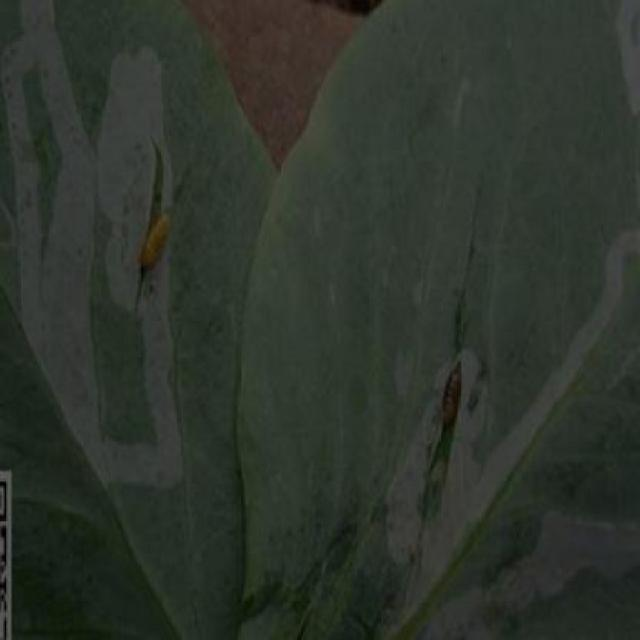whorl-maggot: (135, 197, 177, 291), (434, 352, 469, 442)
